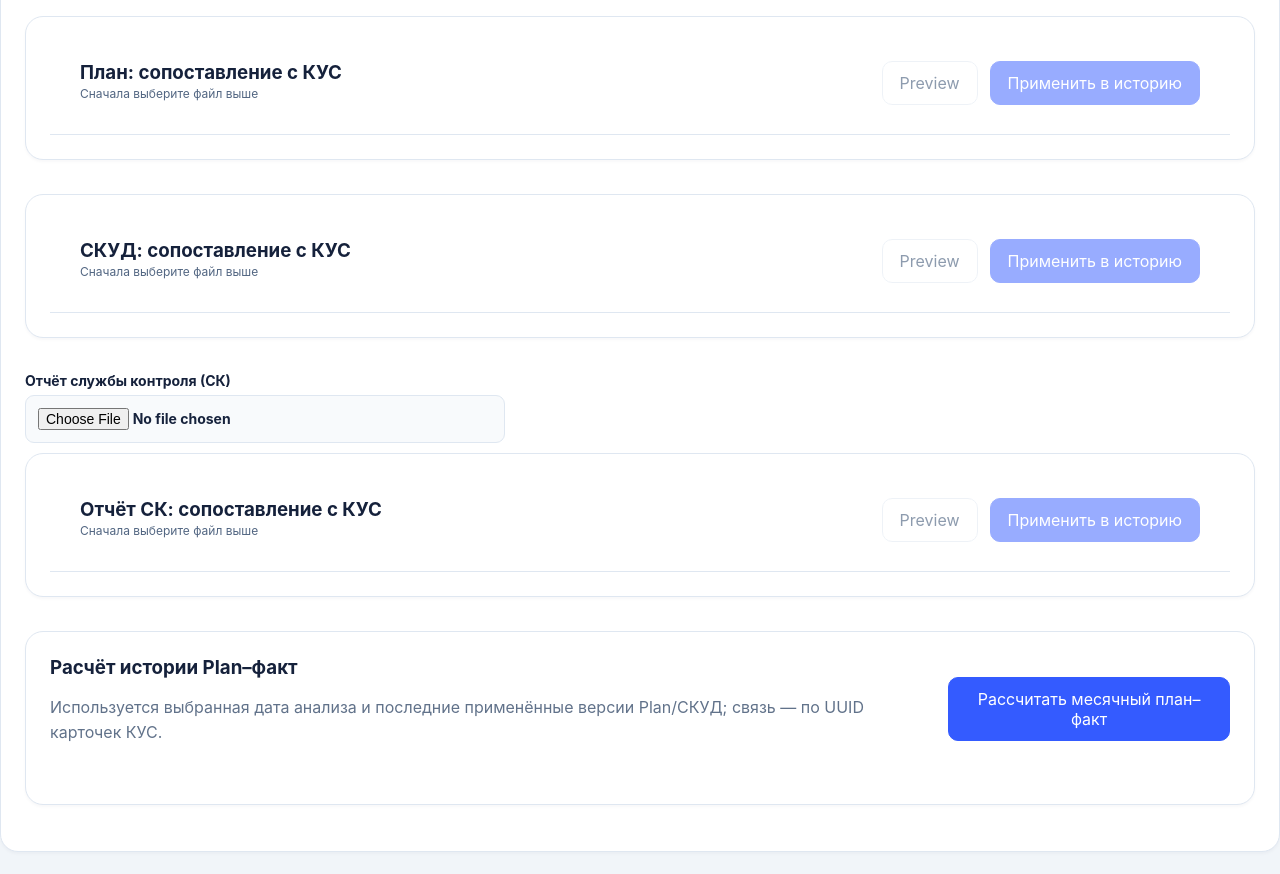
Test: Сопоставление импорта с КУС › запускает расчёт истории за дату среза и показывает сохранённую сводку
(page scrolled)
Click the button "Рассчитать месячный план–факт".
click(1089, 709)  # box [948,677,1230,741]
(page scrolled)
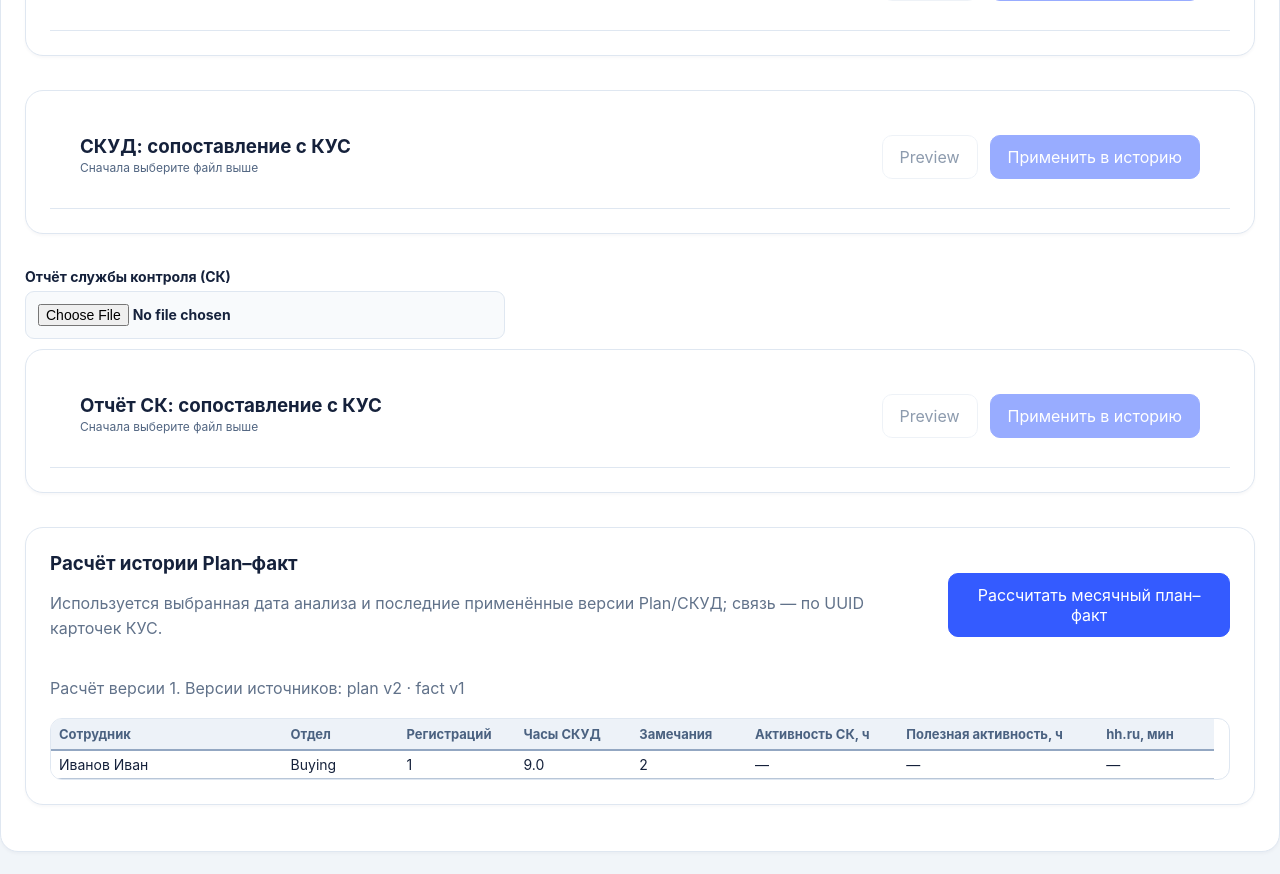
Expected: the text "Расчёт версии 1. Версии источников: plan v2 · fact v1" is shown, [50,678,465,698]
Expected: the text "Иванов Иван" is shown, [51,750,283,779]
